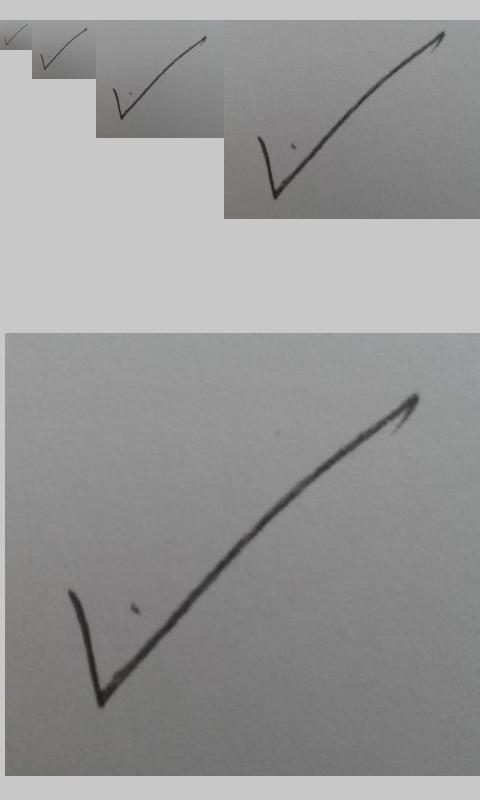check_box: (68, 397, 418, 707), (258, 32, 444, 200), (112, 36, 207, 120), (40, 28, 87, 70), (4, 24, 27, 46)
